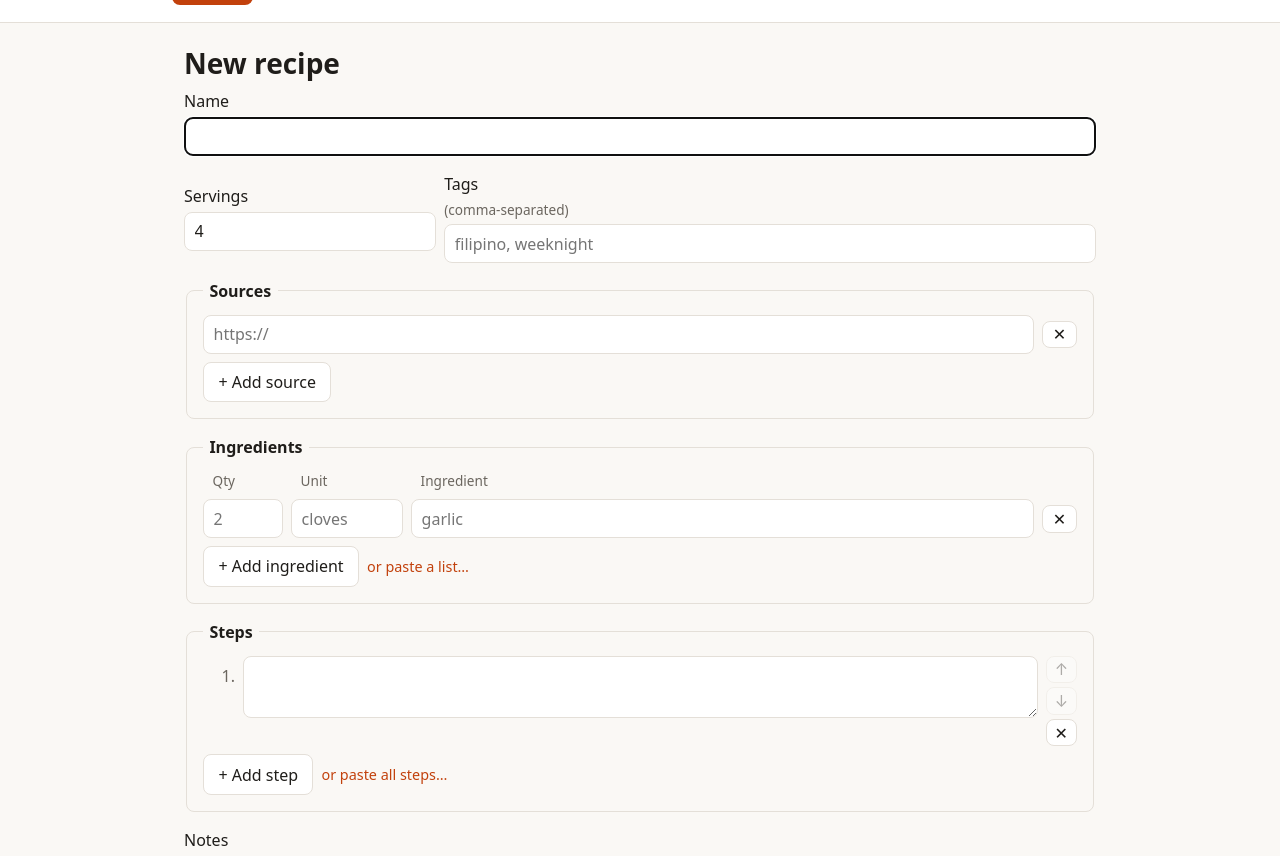
Test: Recipes › shows a validation error instead of saving bad input
Type "Mystery" into the field labelled "Name" at point(640, 136), box [184, 117, 1096, 156]
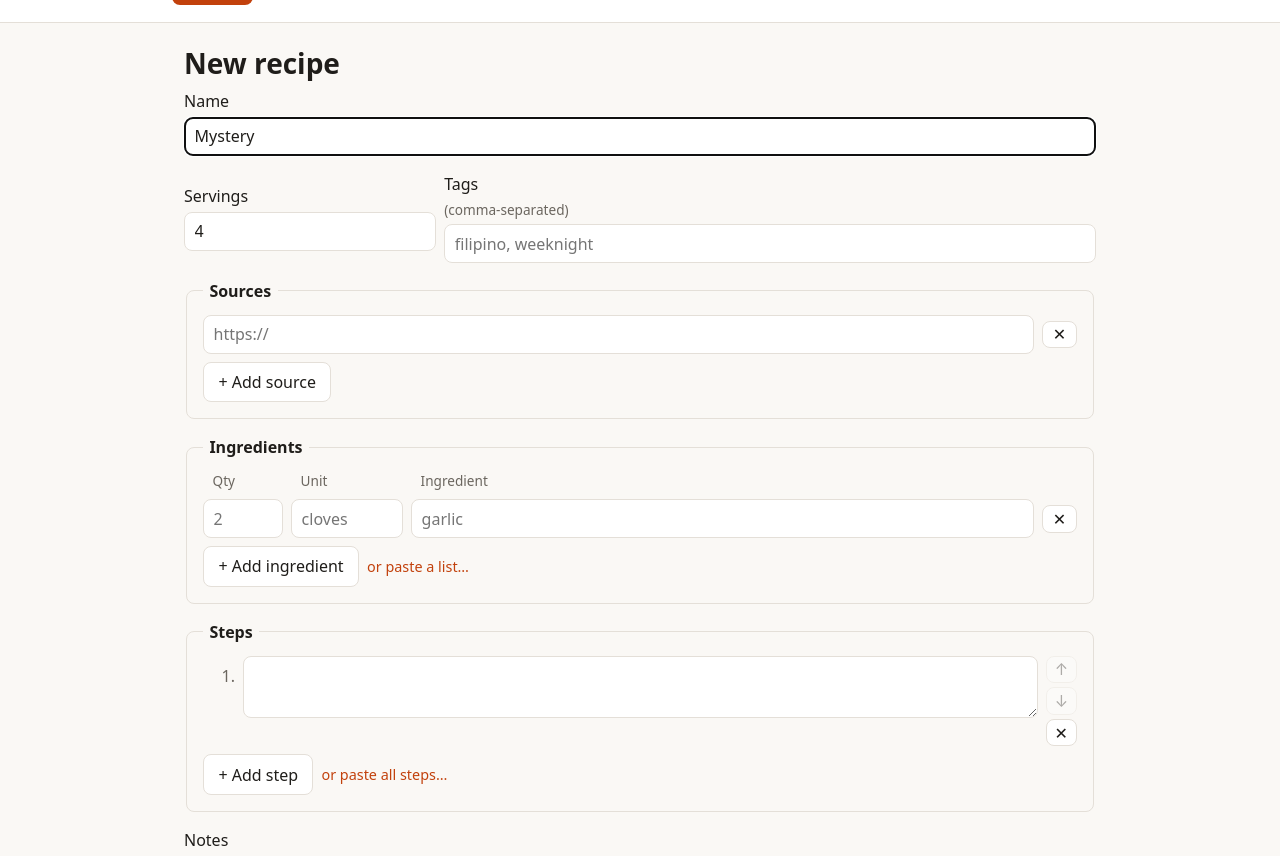
Type "a few" into the field with placeholder "2" at point(243, 519), box [203, 500, 283, 538]
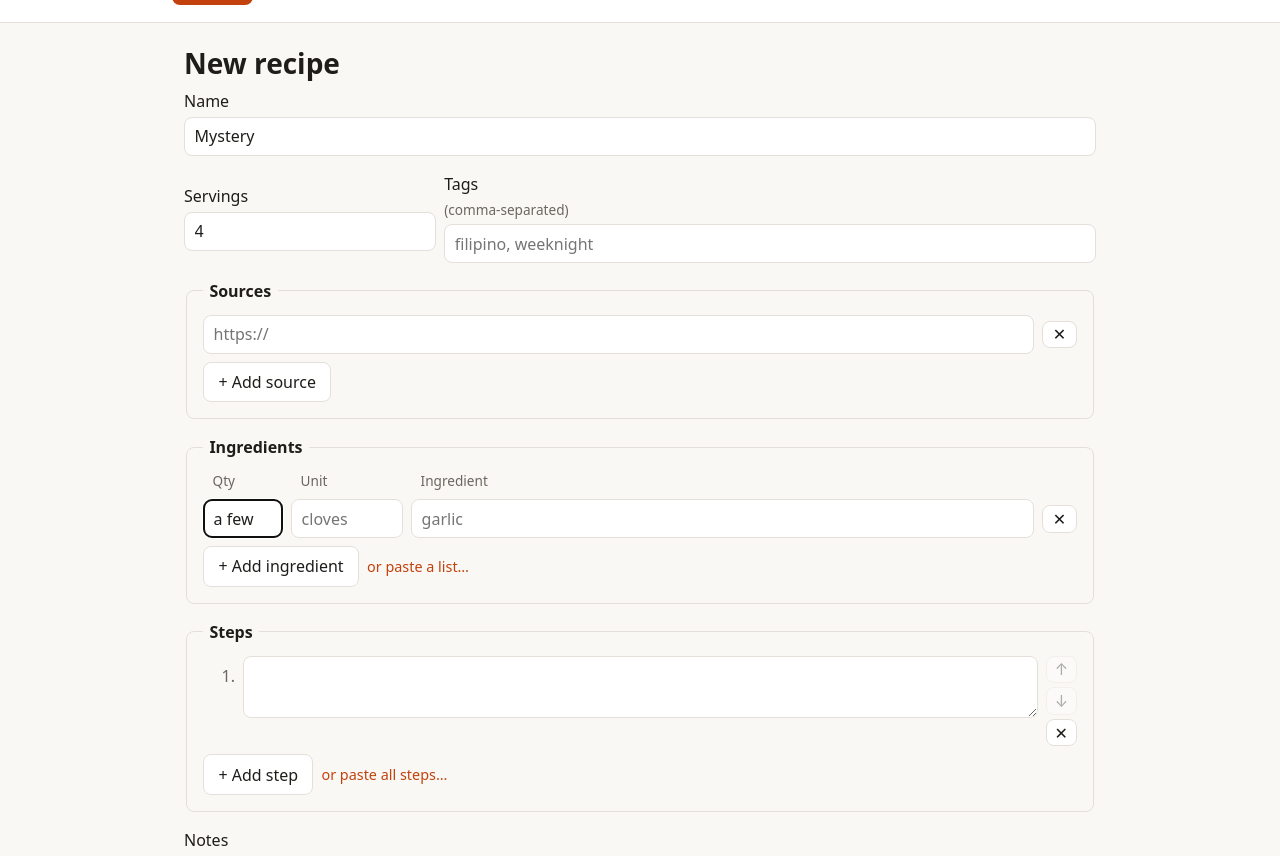
Type "eggs" into the field with placeholder "garlic" at point(722, 519), box [411, 500, 1034, 538]
(page scrolled)
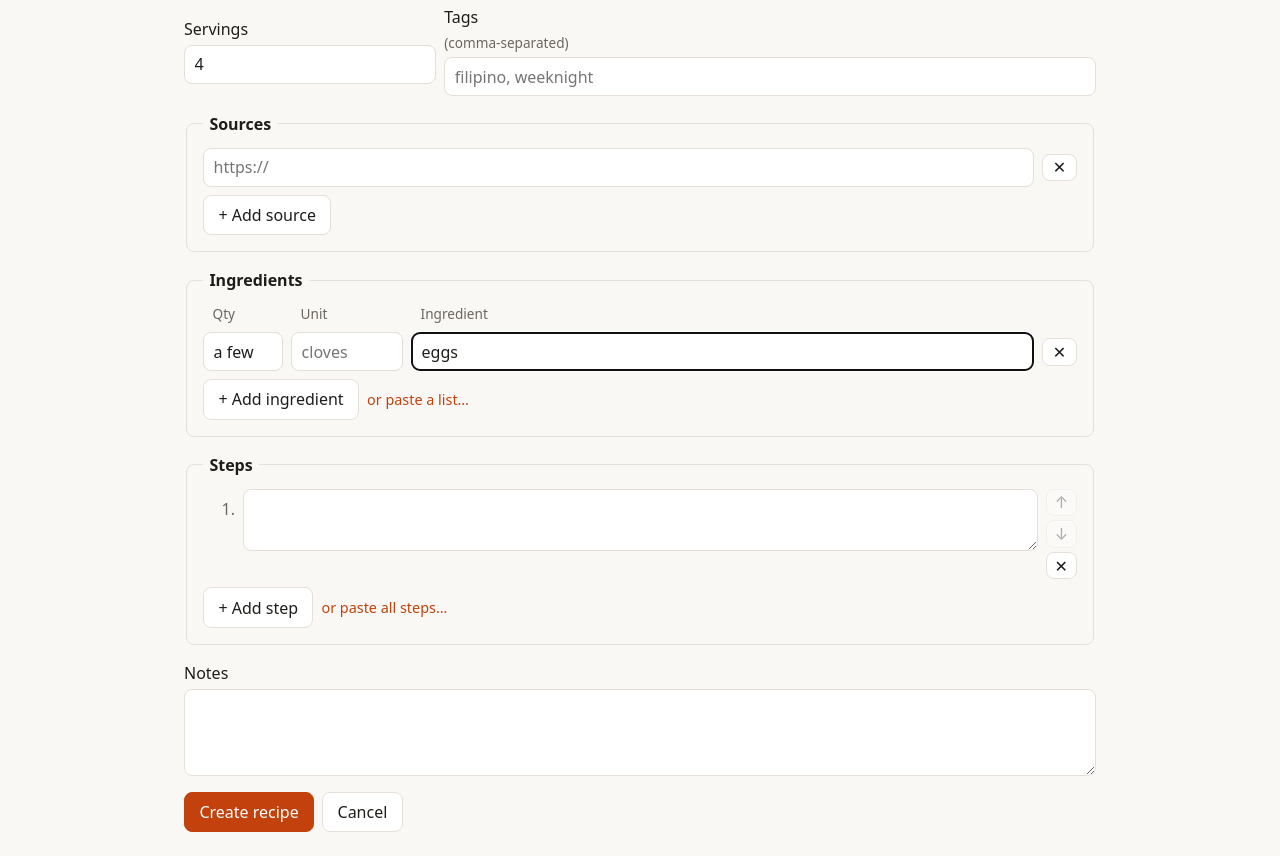
Click the button "Create recipe" at point(249, 812), box [184, 792, 314, 832]
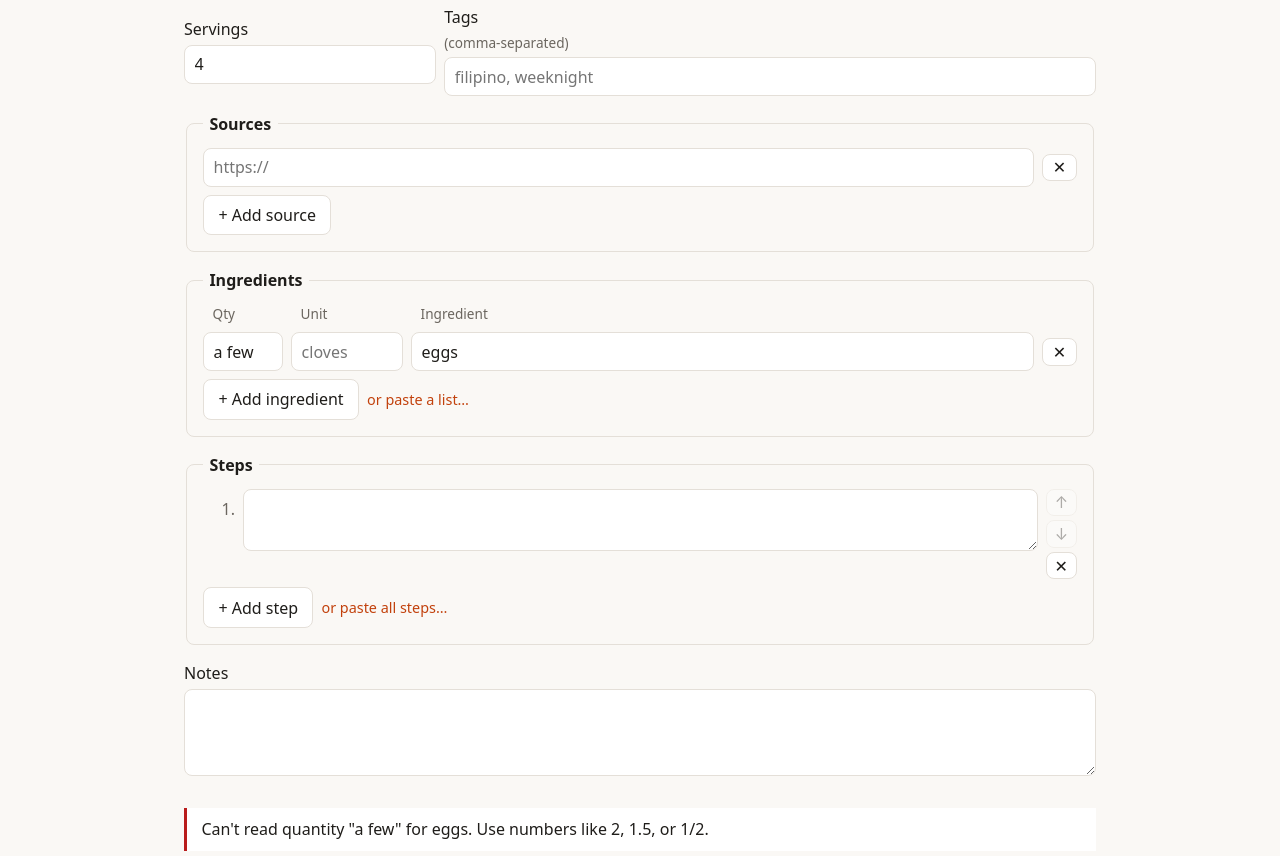
Now the text "Can't read quantity \"a few\" for eggs" is shown, box [201, 818, 709, 840]
